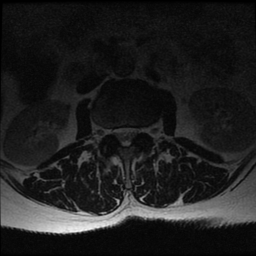CCS_normal: (121, 121, 129, 151)
LFS_stenosis: (138, 121, 146, 140)
LLS_normal: (130, 121, 138, 143)
RFS_stenosis: (105, 121, 113, 144)
RLS_normal: (113, 121, 121, 145)
